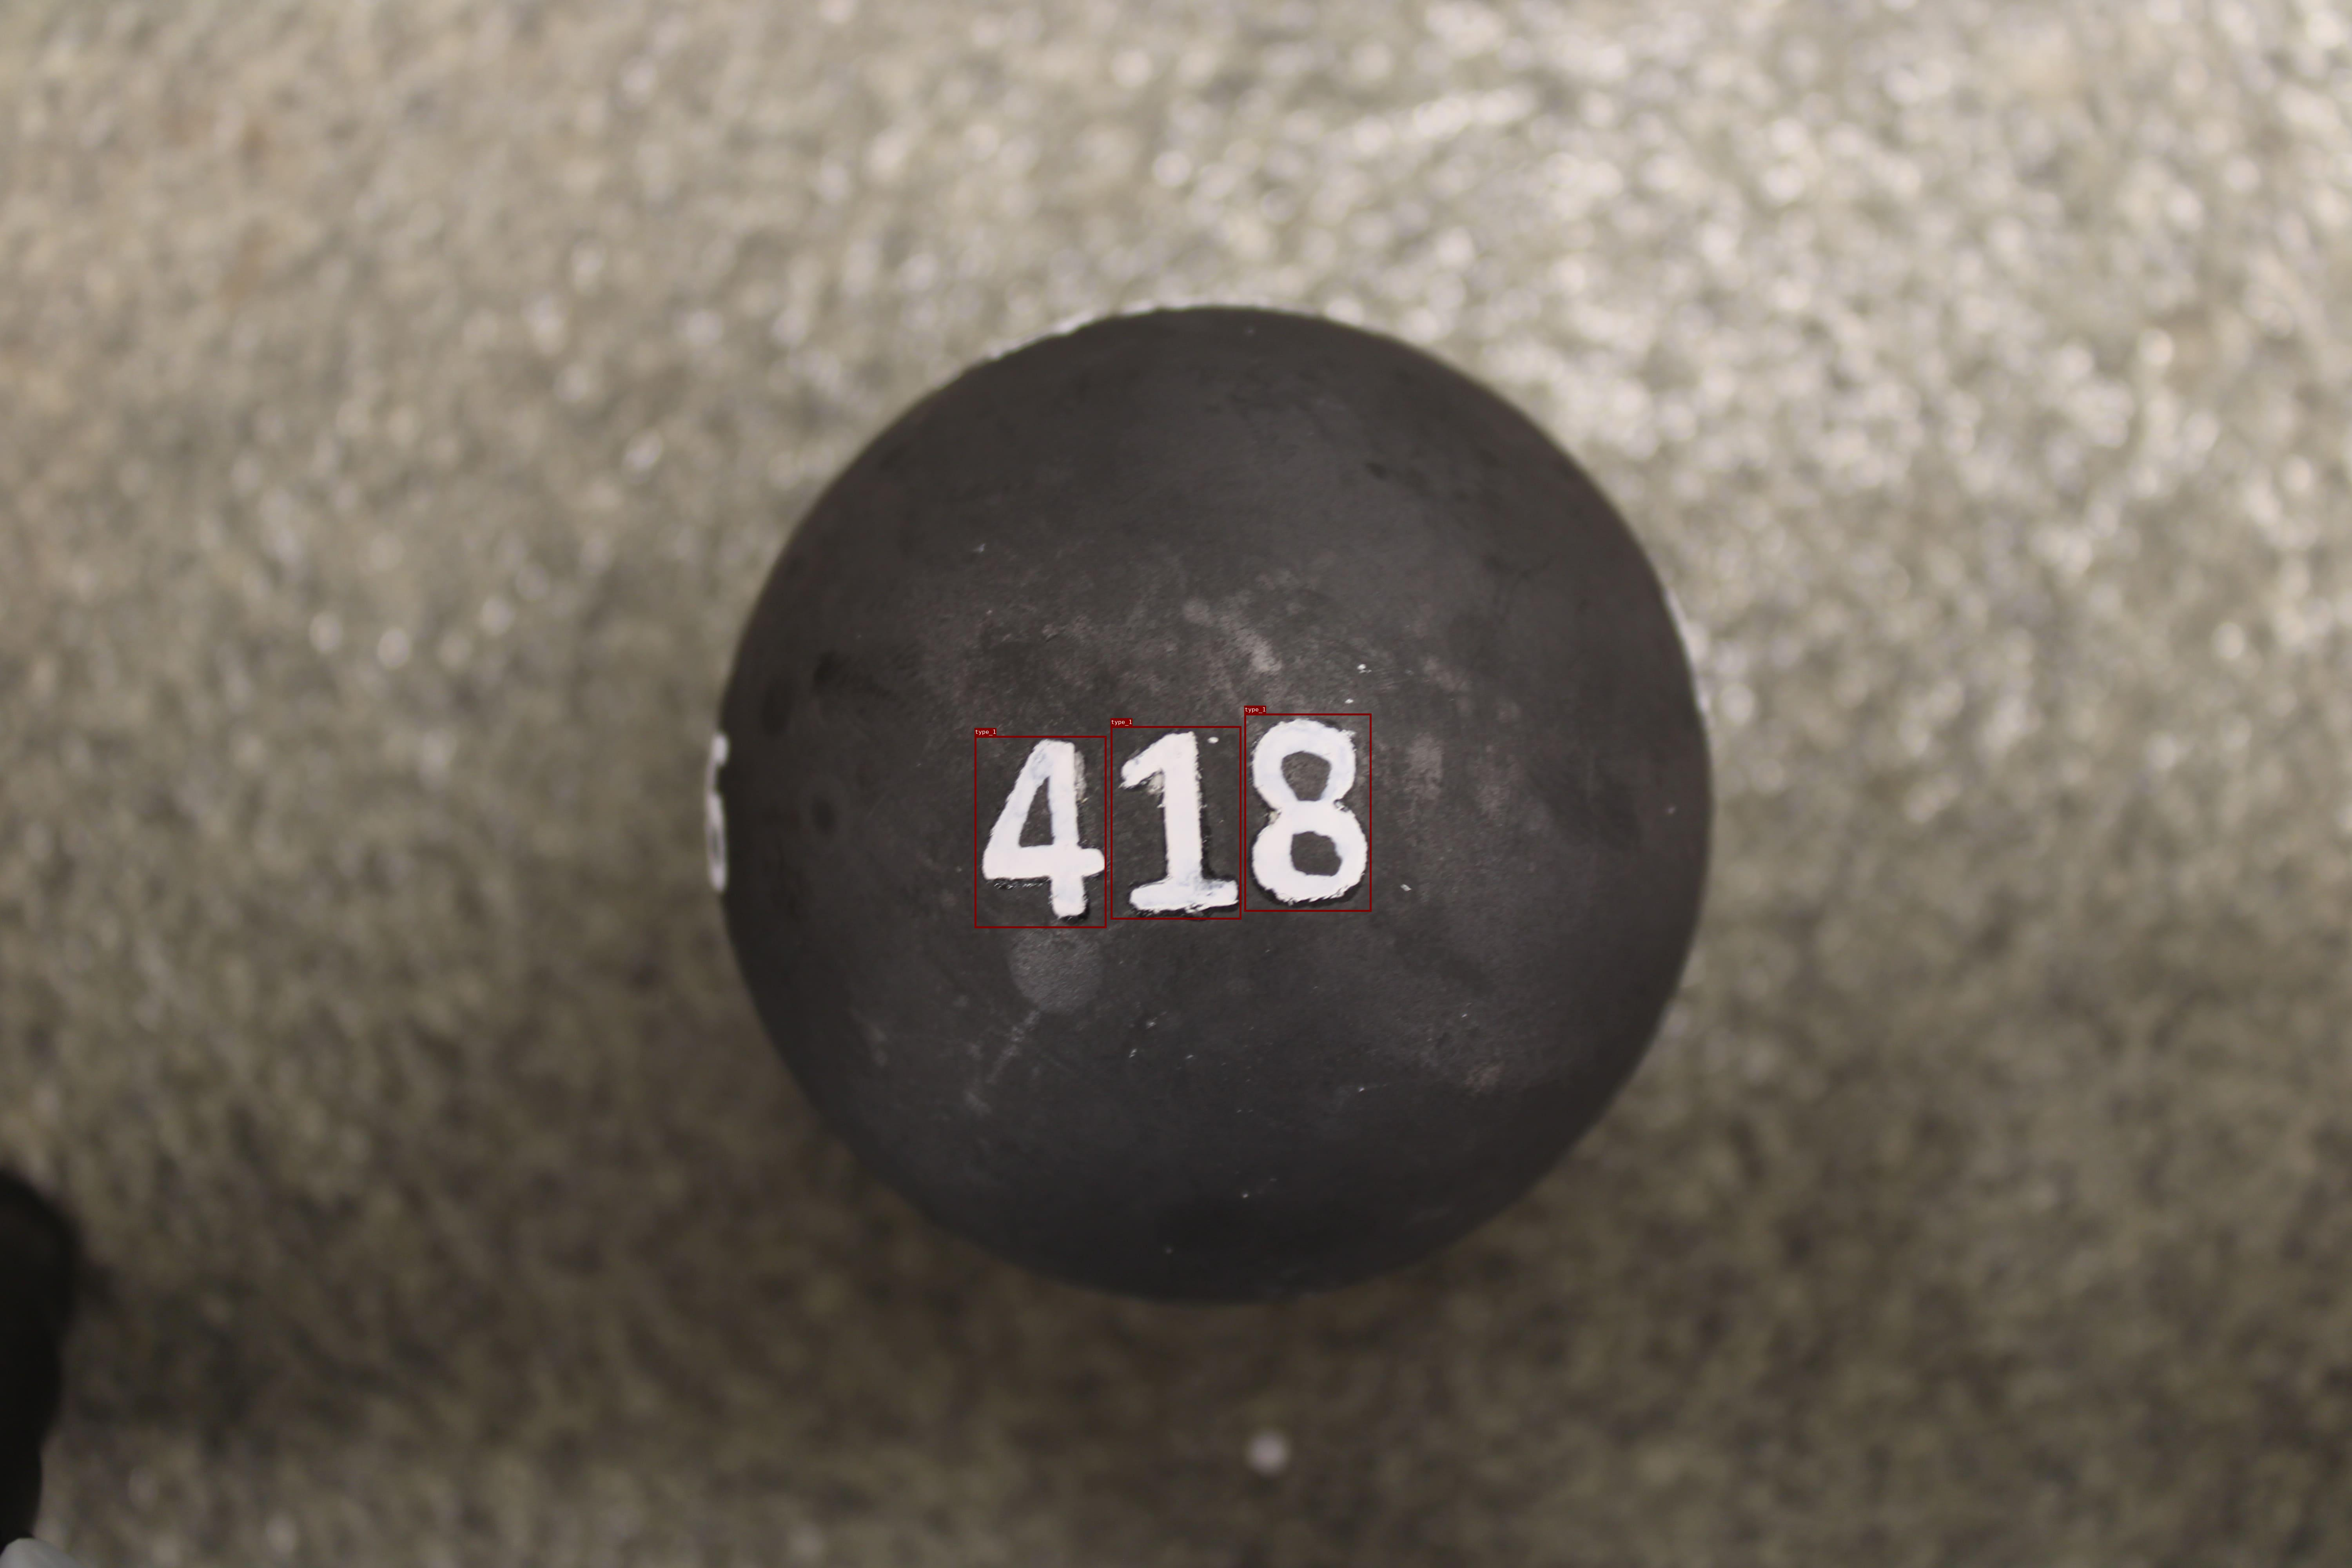type_1: (975, 735, 1106, 927), (1244, 714, 1372, 912), (1111, 726, 1241, 919)
